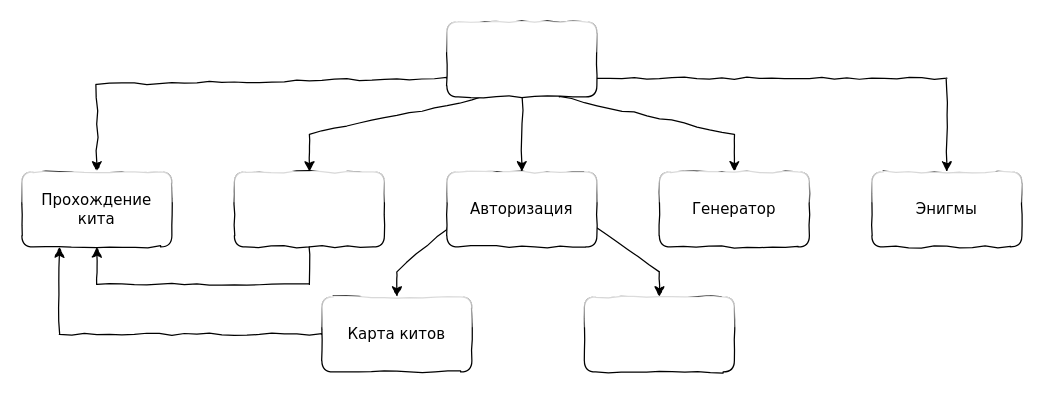
The diagram is 1044 pixels wide and 394 high, and some of its shapes have lost their labels. Here are the shapes that lost their labels. From the top down, the centre of each, then its label:
At (x=521, y=59): "Главное меню".
At (x=308, y=209): "Лучшие киты".
At (x=658, y=334): "Профиль".
